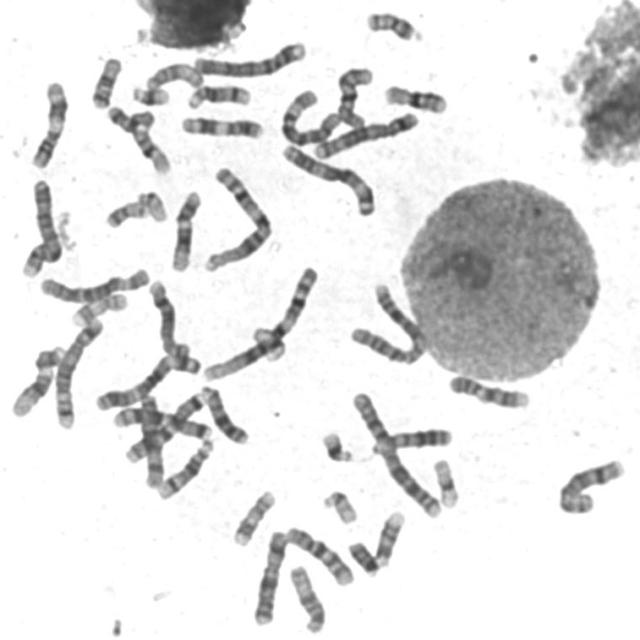A1: (199, 260, 322, 384), (200, 162, 276, 273)
A2: (348, 386, 444, 520), (345, 279, 429, 367)
A3: (277, 138, 379, 218), (91, 349, 202, 413)
B4: (190, 35, 310, 79), (16, 175, 61, 279)
B5: (50, 312, 106, 430), (310, 107, 422, 160)
C10: (283, 522, 358, 588), (332, 61, 376, 131)
C11: (26, 76, 70, 170), (177, 112, 266, 140)
C12: (8, 340, 66, 419), (166, 186, 204, 273)
C6: (36, 263, 153, 305), (277, 86, 344, 147)
C7: (120, 389, 210, 465), (107, 402, 215, 442)
C8: (555, 453, 629, 517), (144, 275, 194, 362)
C9: (351, 505, 408, 576), (444, 370, 533, 411)
D13: (196, 381, 252, 446), (367, 422, 456, 457)
D14: (153, 434, 216, 501), (184, 79, 254, 110)
D15: (286, 561, 329, 635), (141, 57, 206, 92)
E16: (125, 119, 175, 177), (380, 79, 450, 115)
E17: (229, 485, 278, 548), (68, 287, 130, 327)
E18: (86, 51, 125, 110), (102, 102, 158, 134)
F19: (430, 454, 462, 511), (249, 320, 288, 362)
F20: (363, 6, 426, 44), (102, 196, 150, 230)
G21: (318, 426, 357, 464), (128, 81, 172, 107)
G22: (319, 485, 361, 526), (133, 186, 171, 224)
X: (248, 525, 291, 627)
Y: (344, 536, 381, 578)
